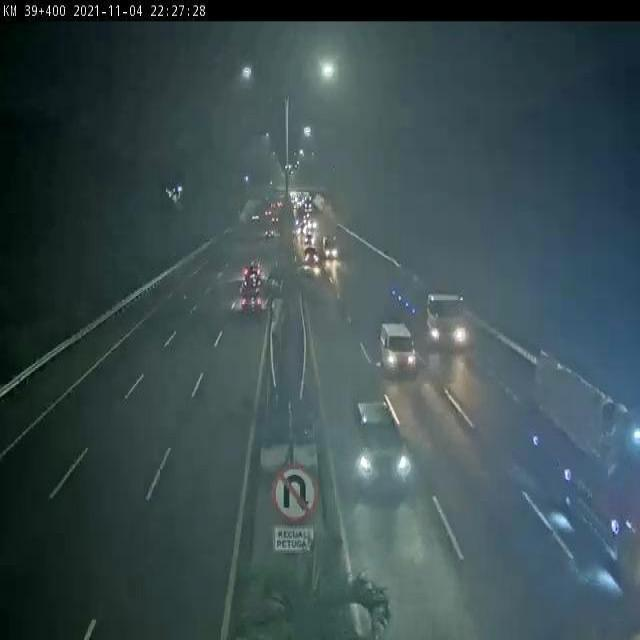car: (349, 401, 412, 496), (379, 322, 417, 374), (240, 265, 263, 295), (240, 292, 266, 317)
truck: (532, 349, 640, 579), (389, 267, 467, 347)
